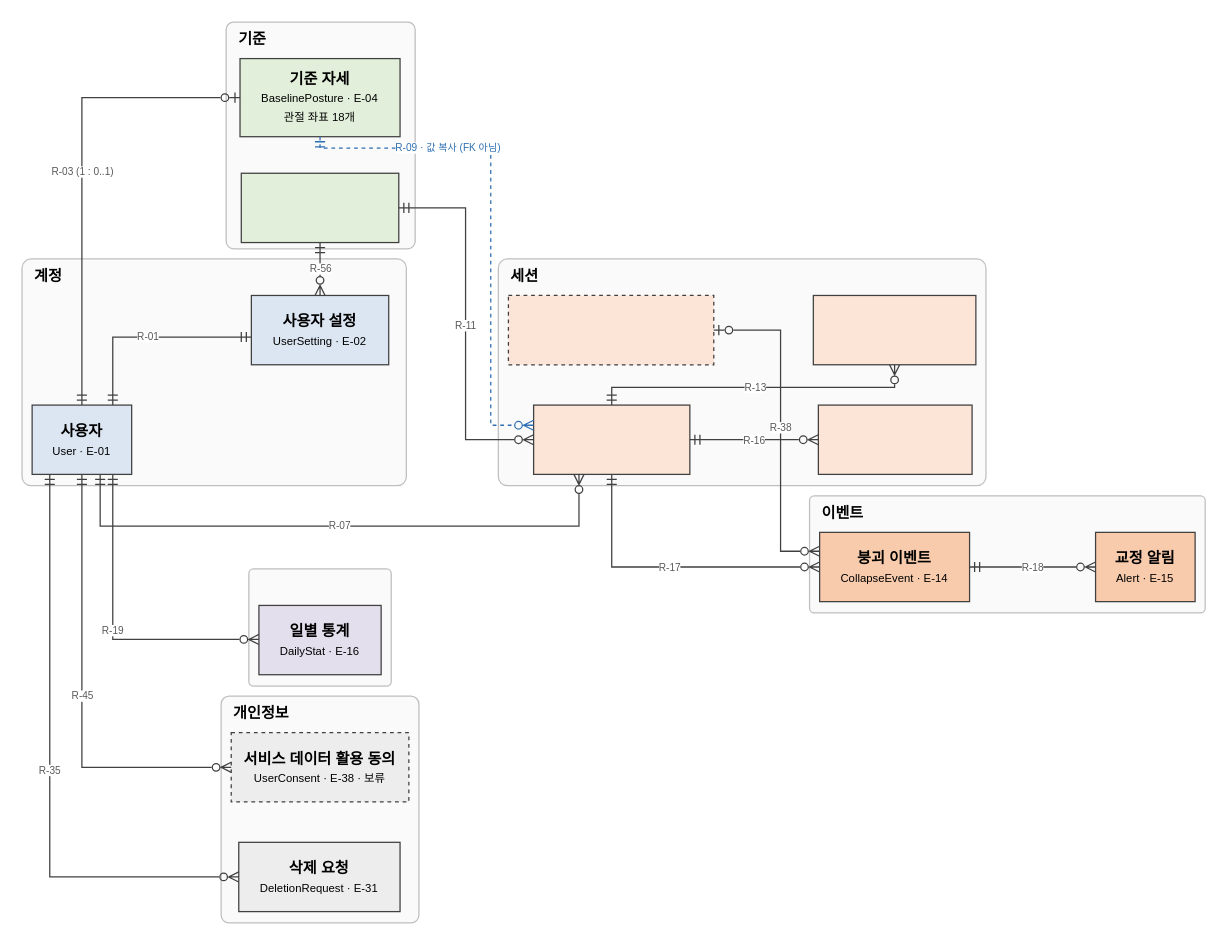
Some shapes in this 1227 by 945 pixel diagram are drawn without their labels. Each missing label, with the box of its shape:
붕괴 유형 코드 CollapseTypeCode · E-34 · 보류: (507, 294, 714, 365)
세션 제외 구간 ExcludedInterval · E-10: (812, 294, 976, 365)
측정 세션 MonitorSession · E-09: (532, 404, 690, 474)
통계: (248, 568, 391, 686)
특징값 적재 기록 FeatureArchive · E-13: (817, 404, 972, 474)
판정 정책 ThresholdPolicy · E-08: (240, 172, 399, 243)
